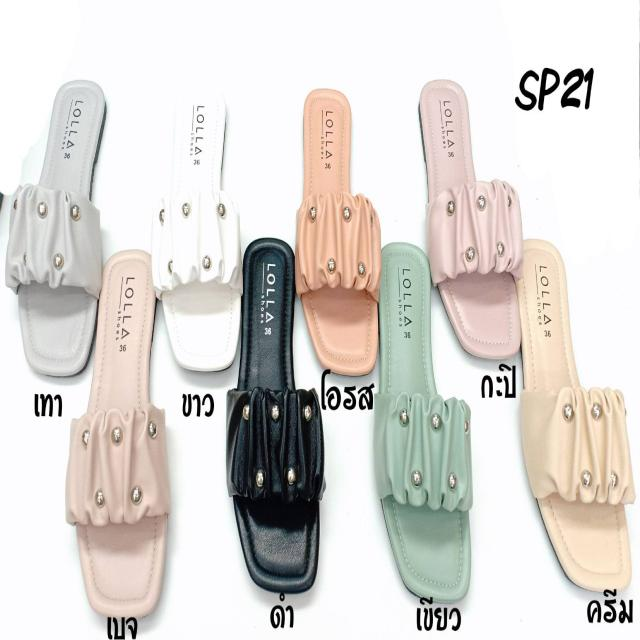bej: (78, 251, 168, 620)
black: (232, 237, 322, 583)
cream: (514, 237, 632, 595)
green: (377, 241, 471, 597)
grey: (15, 83, 101, 373)
kapi: (423, 79, 526, 359)
orot: (300, 89, 380, 376)
white: (158, 88, 240, 375)
